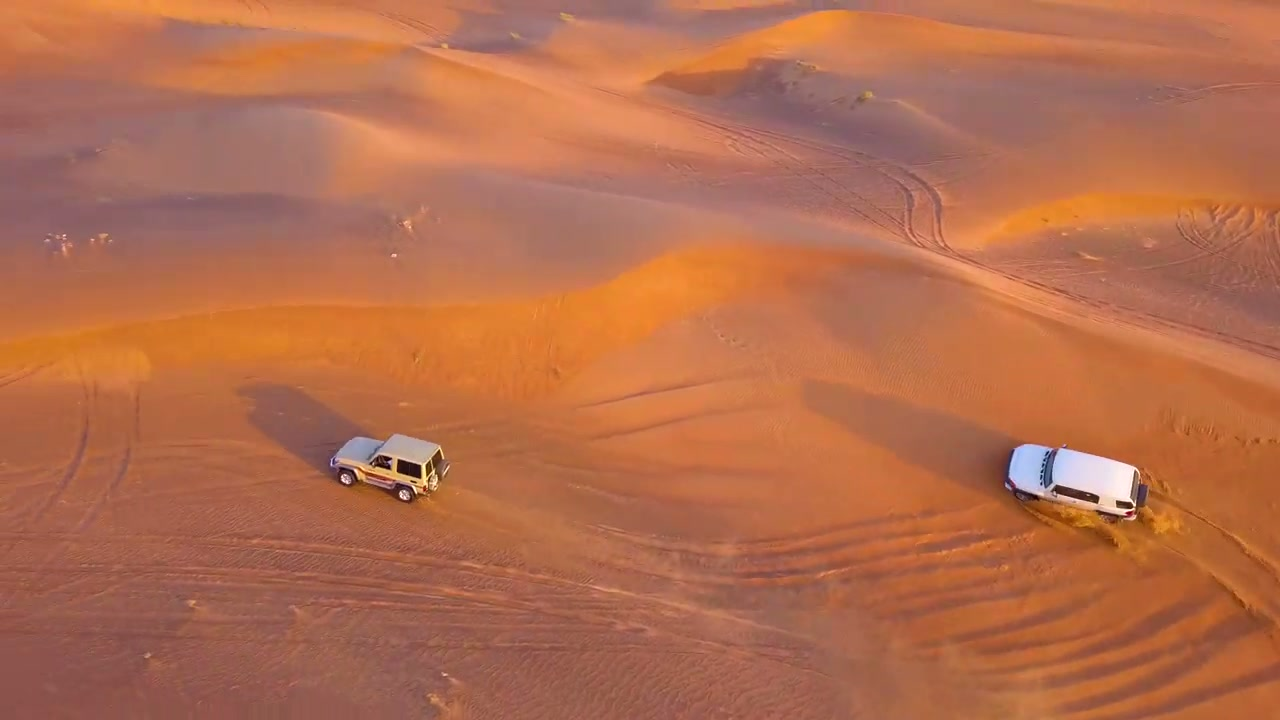vehicle_track: (597, 513, 1270, 717), (6, 534, 825, 676), (0, 532, 801, 641), (913, 192, 1279, 359), (595, 88, 955, 255), (1157, 81, 1279, 104)
